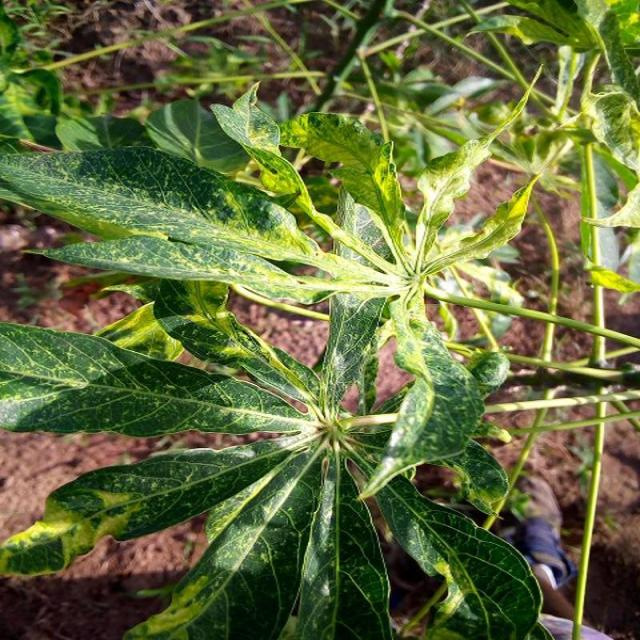Mosaico: (13, 100, 545, 449), (58, 288, 552, 624)
